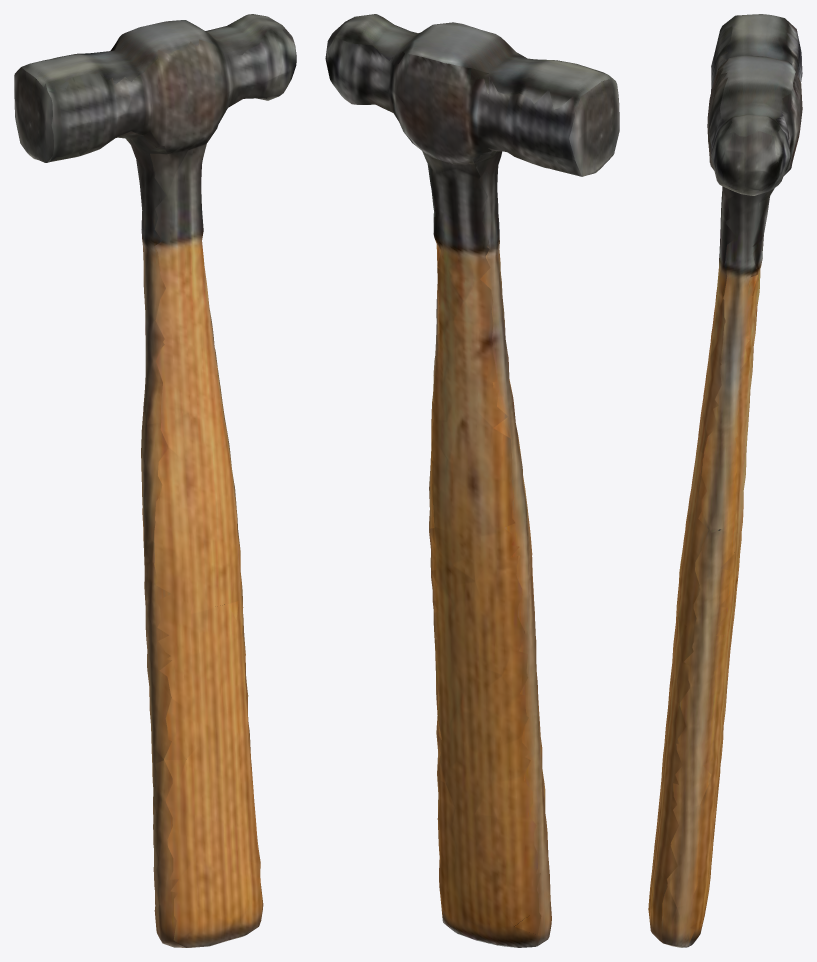
The picture shows the model from 3 angles, left to right: view 1: azimuth 30°, elevation 25°; view 2: azimuth 150°, elevation 25°; view 3: azimuth 270°, elevation 25°; orthographic projection. The views are drawn at different scales.
Visible parts, largest first — view 1: world; view 2: world; view 3: world.
Part boxes in pixels (x1=…): world: x1=14, y1=14, x2=296, y2=947; world: x1=325, y1=14, x2=619, y2=947; world: x1=648, y1=14, x2=802, y2=947.
Bounding box in the file's own units: 0.2936 × 0.9587 × 0.1548.
1 material, 1 textured.
